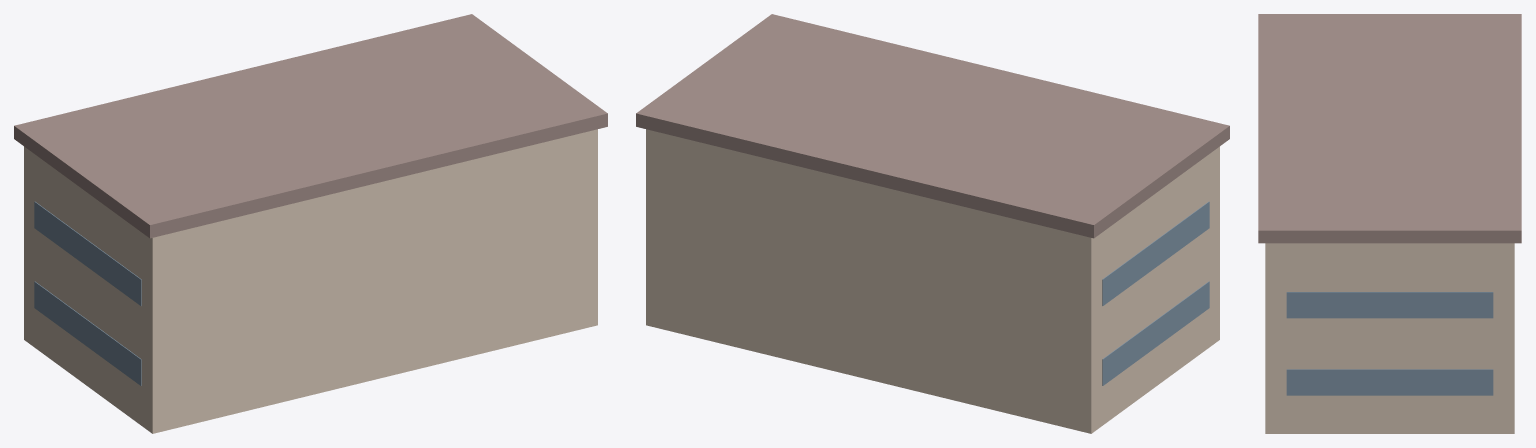
Rendered from building_wide.glb.
3 renders of one model, left to right at view 1: azimuth 30°, elevation 25°; view 2: azimuth 150°, elevation 25°; view 3: azimuth 270°, elevation 25°, orthographic. The views are drawn at different scales.
Visible parts, largest first — view 1: prop; view 2: prop; view 3: prop.
Part boxes in pixels (x1,y1,x2,y2): prop: (14, 14, 607, 433); prop: (636, 14, 1229, 433); prop: (1258, 14, 1521, 433).
Bounding box in the file's own units: 14.4 × 6.4 × 7.4.
